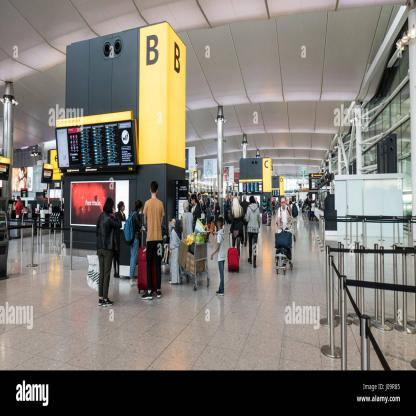airport-trolley: (180, 227, 213, 295), (271, 221, 295, 276)
